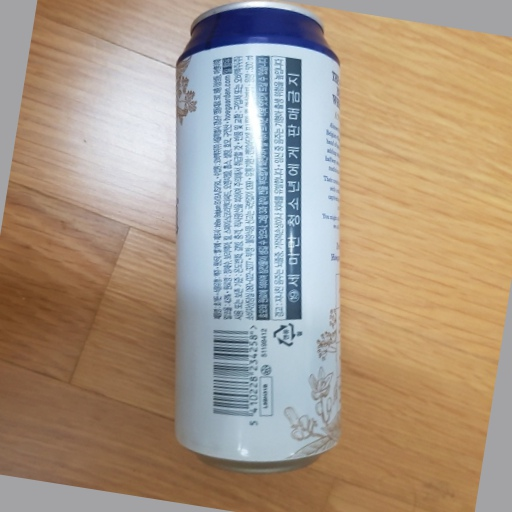Metal_0: (165, 4, 346, 475)
